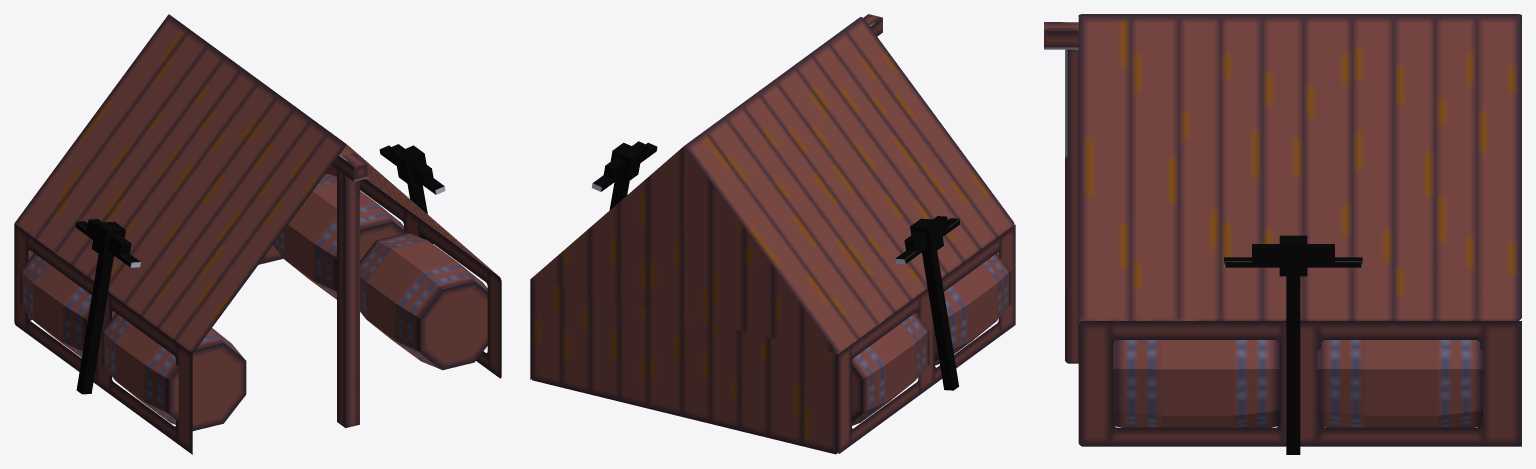
The model's file is frontierCamp 1.dae.
The picture shows the model from 3 angles, left to right: view 1: azimuth 30°, elevation 25°; view 2: azimuth 150°, elevation 25°; view 3: azimuth 270°, elevation 25°; orthographic projection. The views are drawn at different scales.
Parts seen in each view (by area): view 1: cuboid (×4), cylinder (×4), pickaxe (×2); view 2: cuboid (×2), cylinder (×2), pickaxe (×2); view 3: cuboid (×4), cylinder (×2), pickaxe.
Boxes of the visible parts, x1=… form: cuboid (×4): x1=14, y1=14, x2=501, y2=454; cylinder (×4): x1=20, y1=173, x2=487, y2=430; pickaxe (×2): x1=75, y1=144, x2=445, y2=394; cuboid (×2): x1=530, y1=17, x2=1015, y2=454; cylinder (×2): x1=838, y1=253, x2=1011, y2=425; pickaxe (×2): x1=591, y1=141, x2=960, y2=390; cuboid (×4): x1=1044, y1=14, x2=1521, y2=446; cylinder (×2): x1=1113, y1=340, x2=1482, y2=427; pickaxe: x1=1224, y1=235, x2=1362, y2=454.
Bounding box in the file's own units: 4.69 × 3.44 × 4.31.
